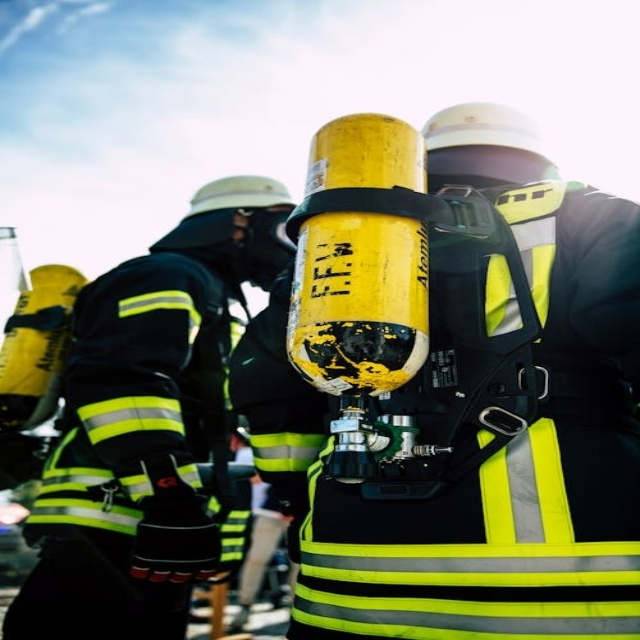Guantes: (114, 450, 229, 588)
